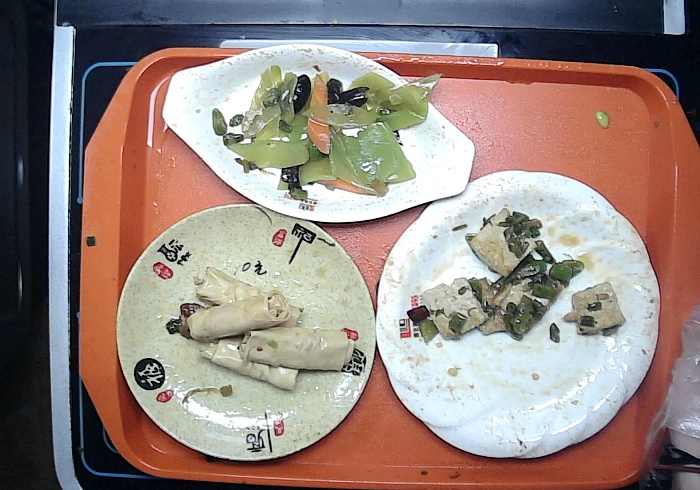NLDX-Bai_Zhe_Yuan_Pan: (374, 171, 660, 461)
NLDX-Fu_Zi_Yuan_Pan: (116, 205, 377, 464)
NLDX-Yu_Pan: (164, 44, 474, 222)
